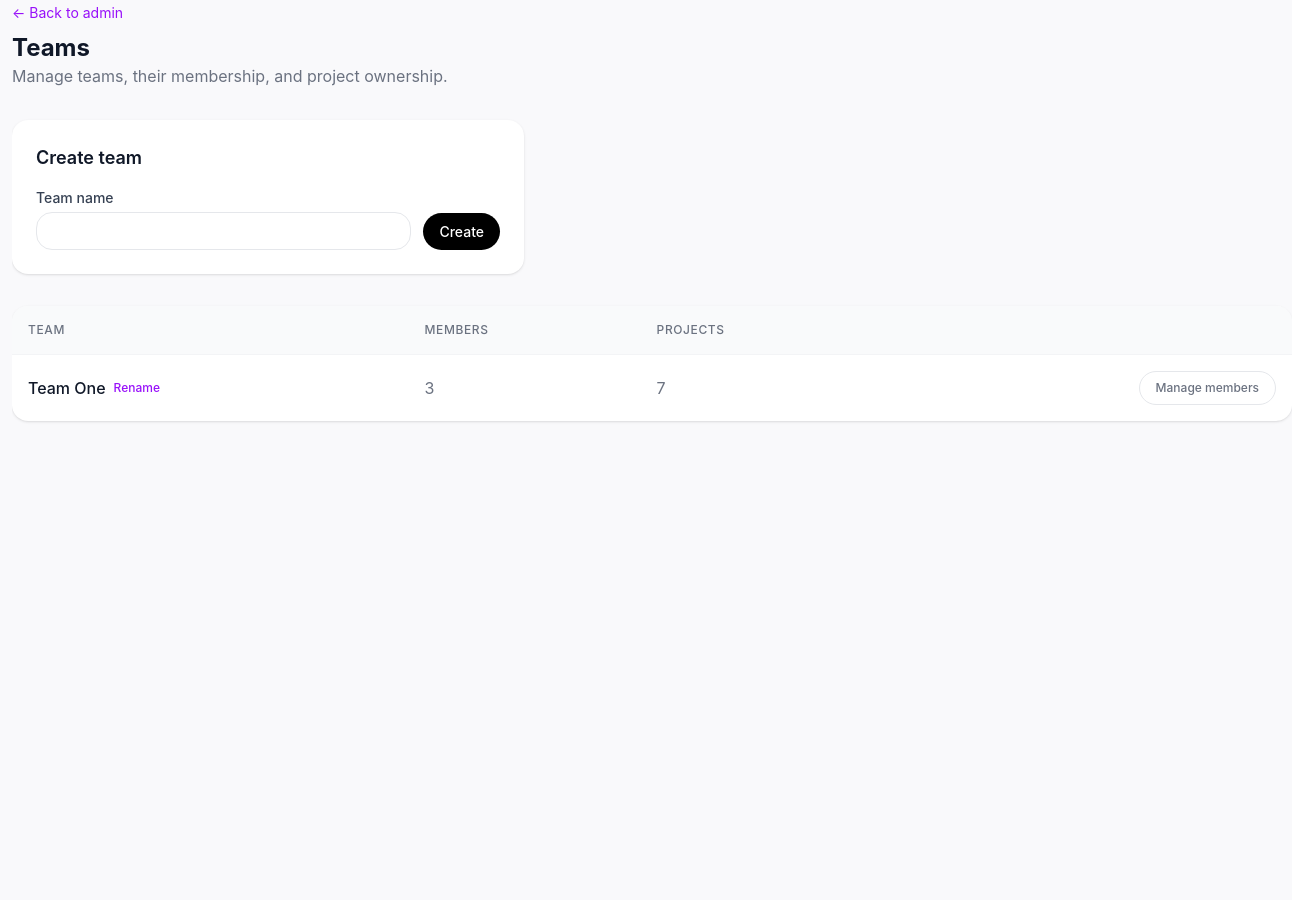
admin teams page › renders the member list for a team once expanded
Click the button "Manage members" at (1207, 388), box [1139,371,1276,405]
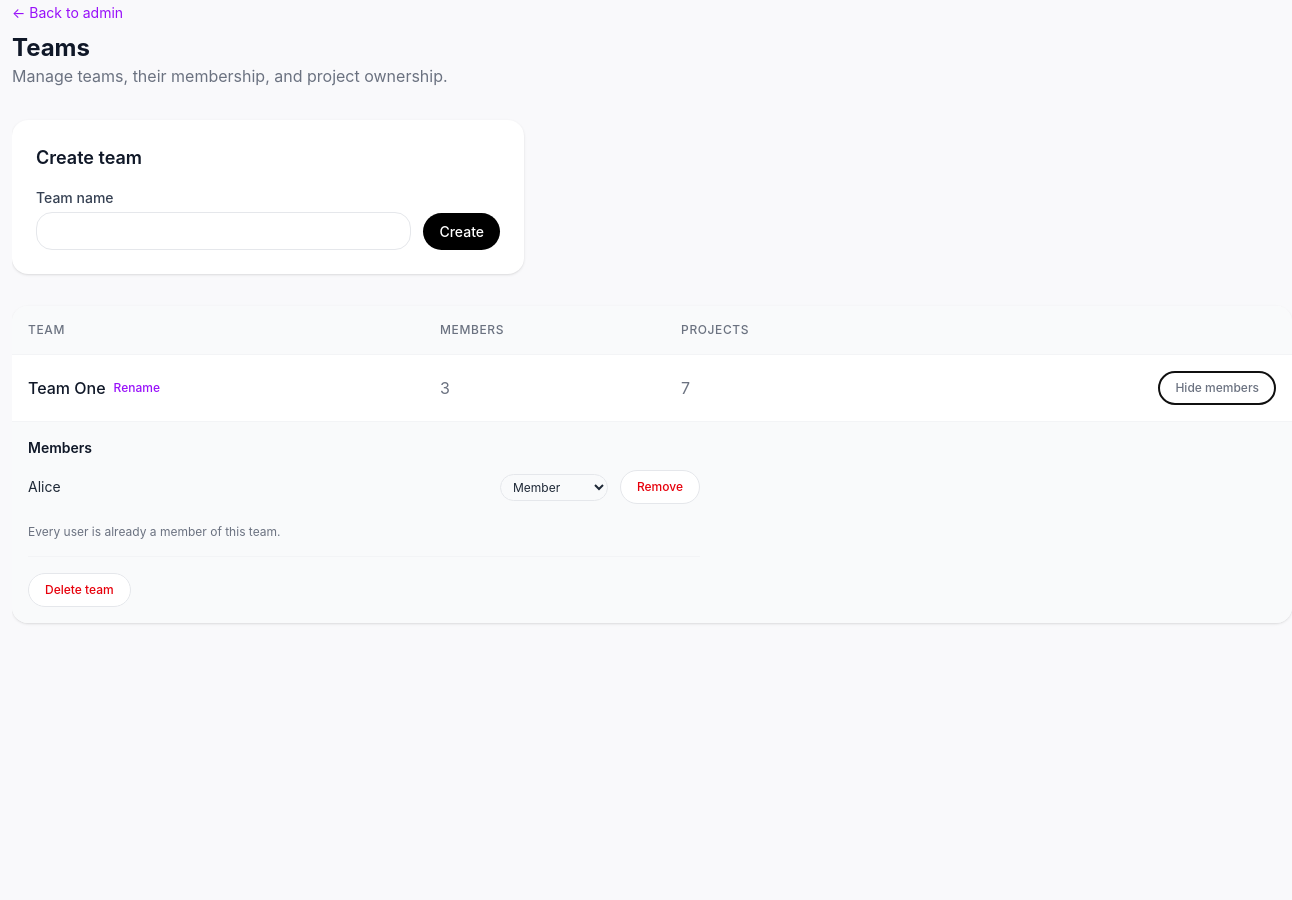
Result: the text "Alice" is shown at [28,478,61,495]
